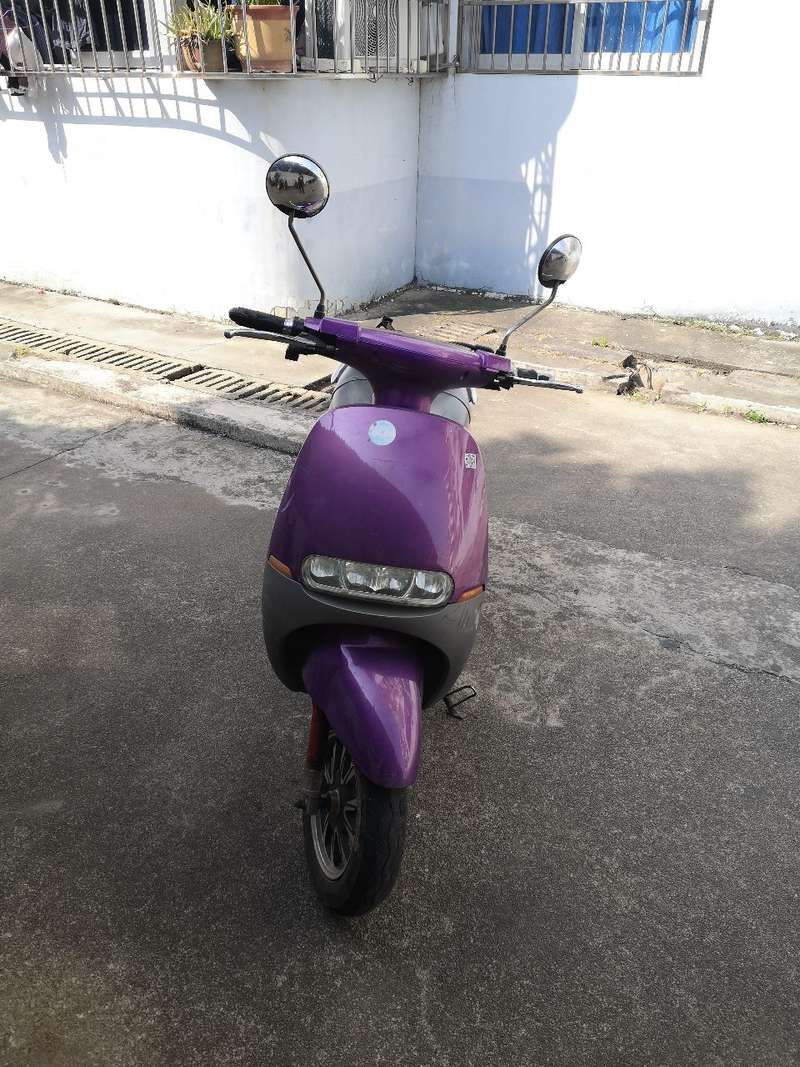电动车: (206, 142, 599, 952)
